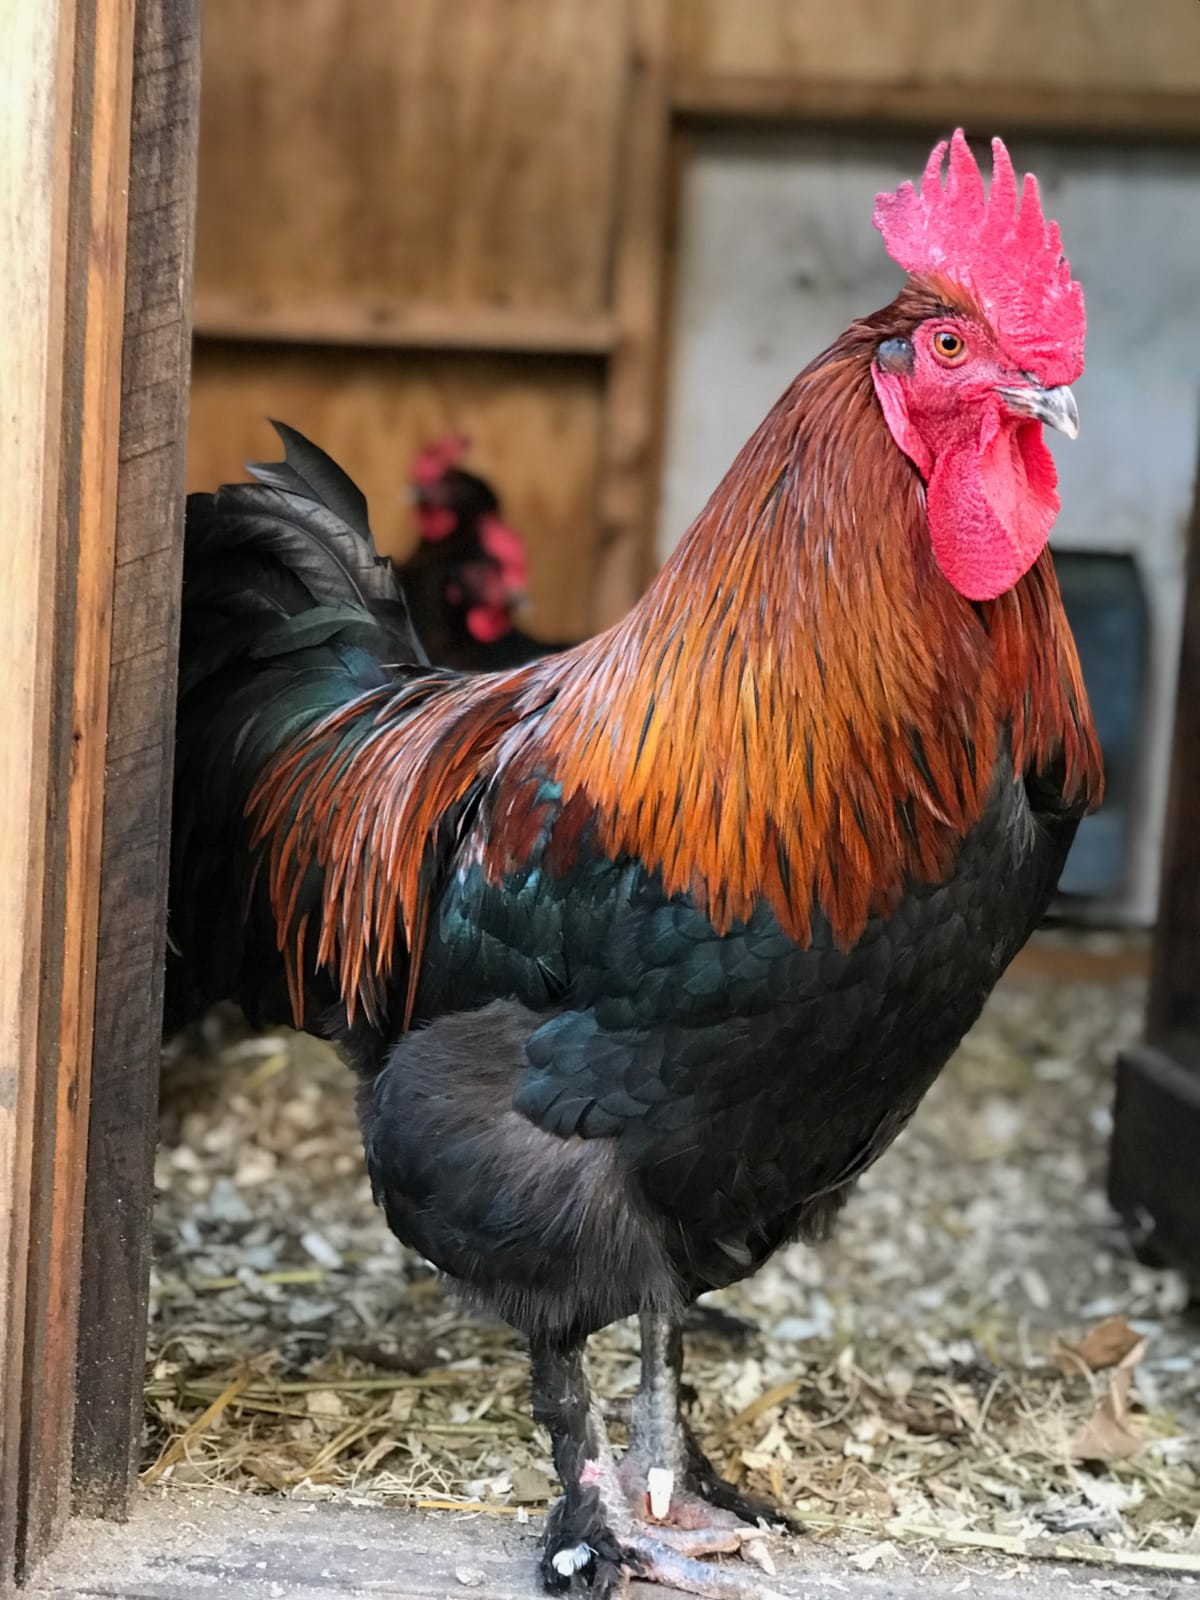Healthy: (187, 129, 1131, 1562)
